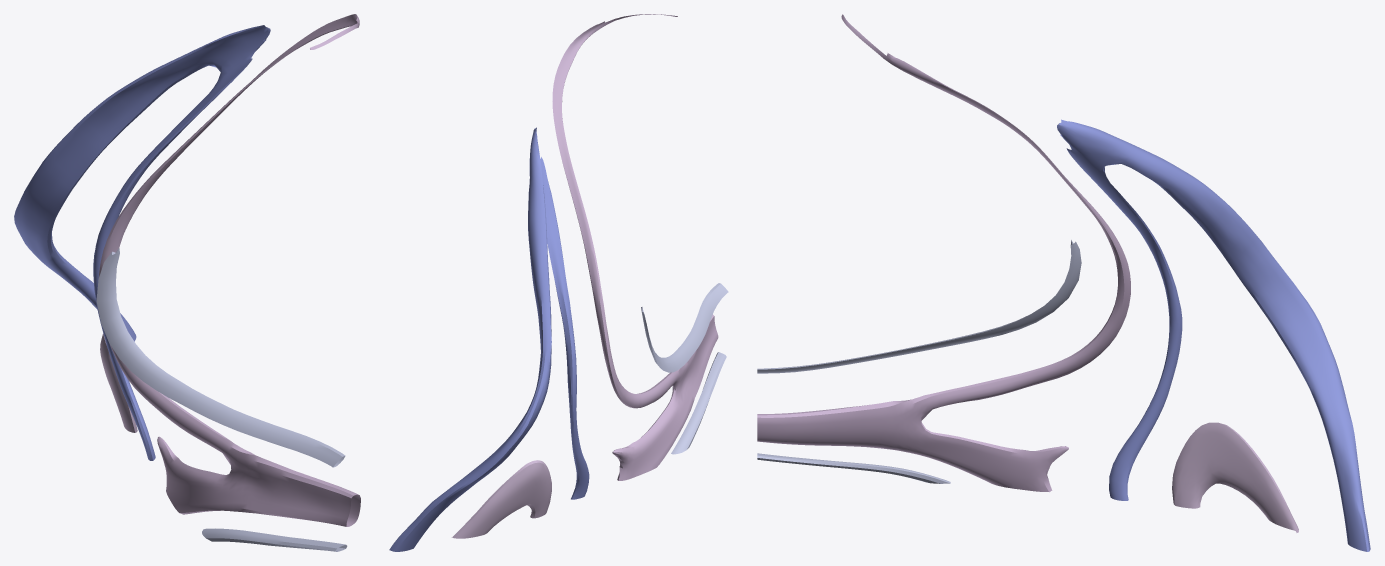
The model's file is SM_Butterfly_Front_RT_2.fbx.
The picture shows the model from 3 angles, left to right: view 1: azimuth 30°, elevation 25°; view 2: azimuth 150°, elevation 25°; view 3: azimuth 270°, elevation 25°; orthographic projection. The views are drawn at different scales.
Parts seen in each view (by area): view 1: 2; view 2: 2; view 3: 2.
Boxes of the visible parts, left/top/right/bottom form: 2: left=14, top=14, right=360, bottom=551; 2: left=389, top=14, right=728, bottom=551; 2: left=757, top=14, right=1370, bottom=551.
Bounding box in the file's own units: 47.15 × 122 × 137.
